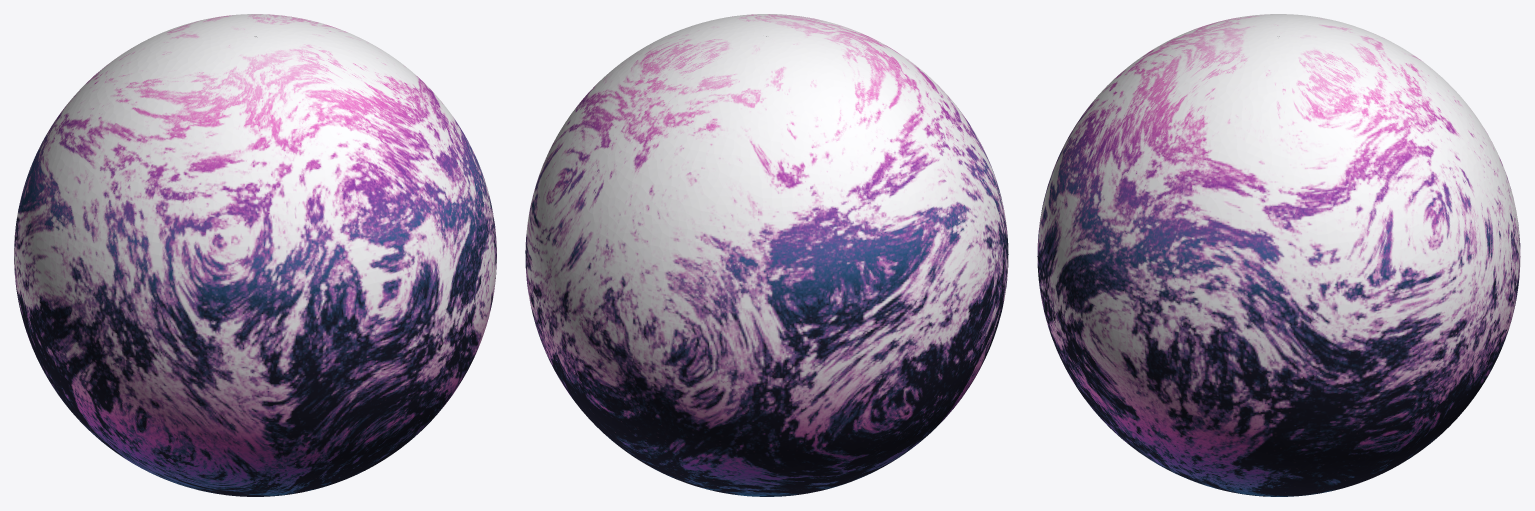
The model's file is kepler-186f.obj.
3 views of the same model, side by side, from view 1: azimuth 30°, elevation 25°; view 2: azimuth 150°, elevation 25°; view 3: azimuth 270°, elevation 25° (orthographic).
Size of the model in its own units: 4 by 4 by 4.
Materials: 1 (1 with a texture image).
